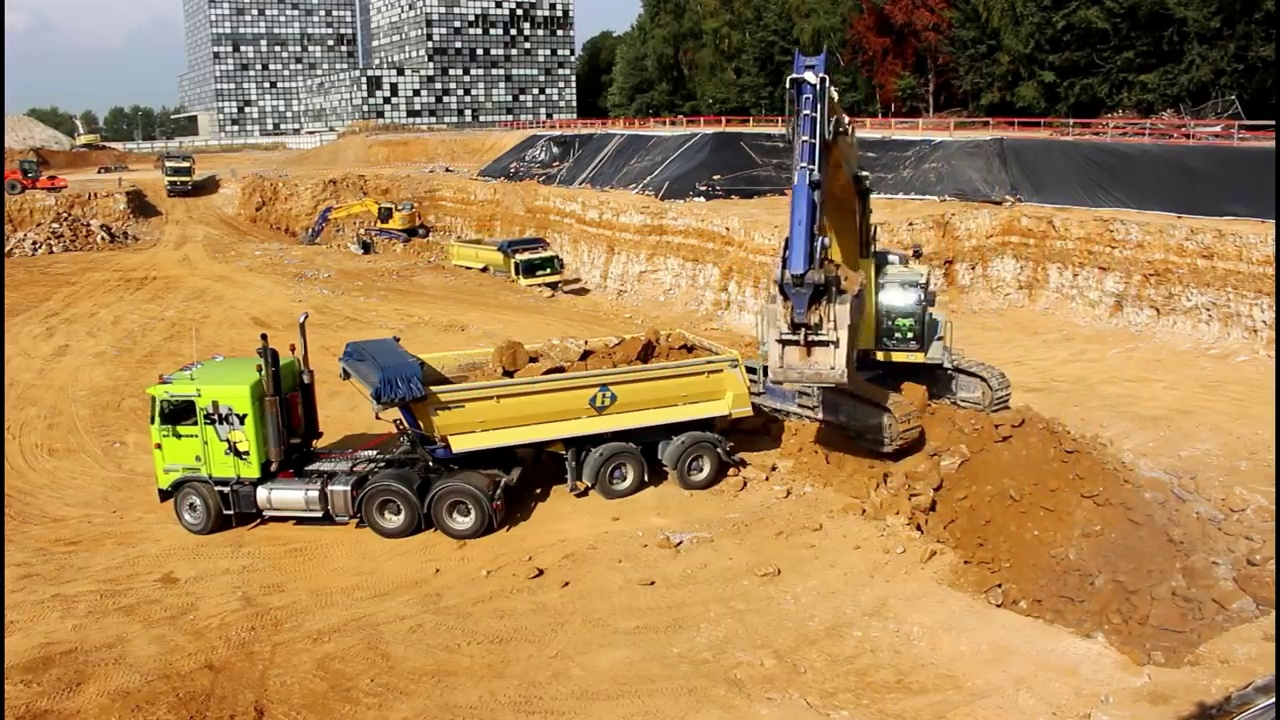compactor: (4, 158, 66, 202)
excavator: (711, 37, 1018, 462), (297, 196, 433, 262), (64, 112, 108, 157)
truck: (143, 307, 761, 545), (449, 230, 568, 312), (154, 145, 204, 205)
